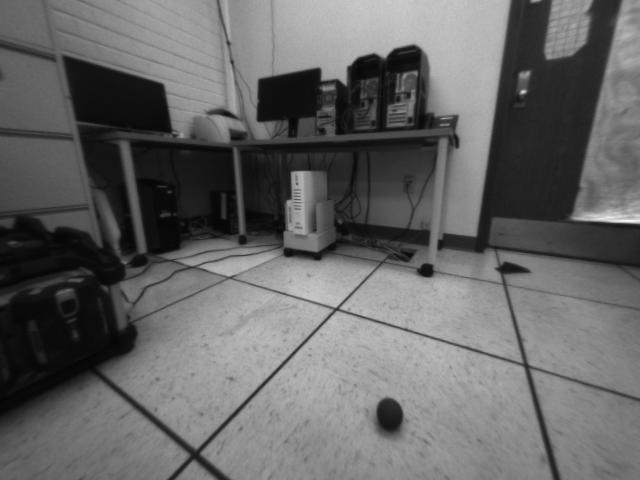dogtoy: (369, 387, 412, 437)
